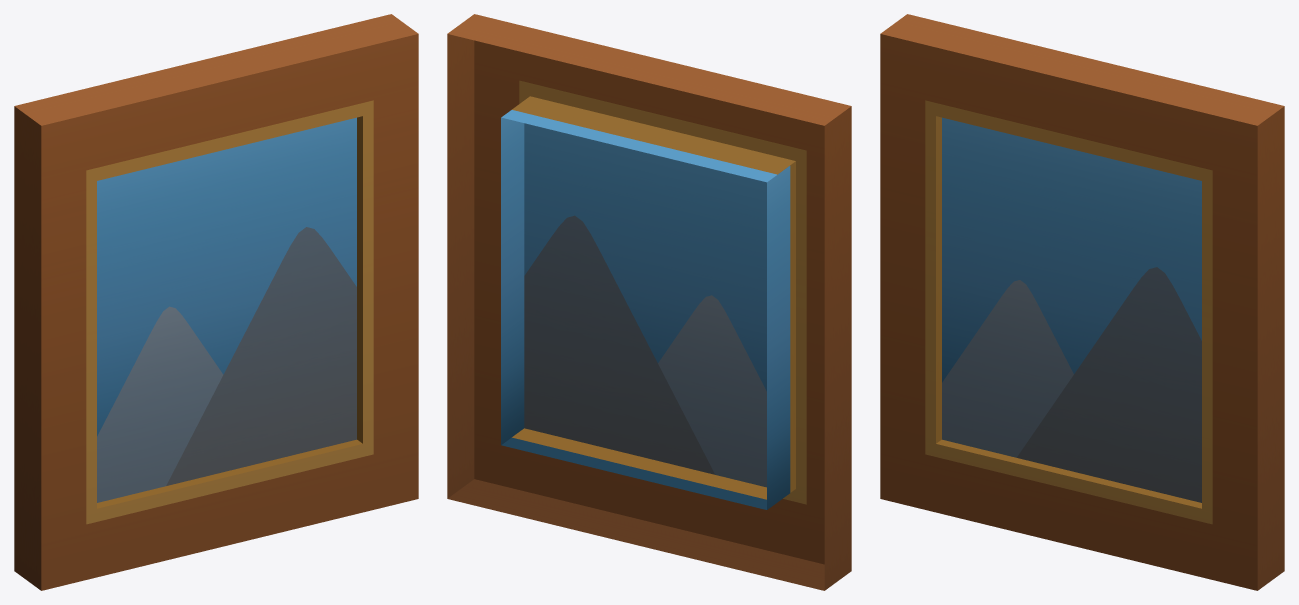
File: PaintingC.FBX
3 renders of one model, left to right at view 1: azimuth 30°, elevation 25°; view 2: azimuth 150°, elevation 25°; view 3: azimuth 330°, elevation 25°, orthographic.
Parts seen in each view (by area): view 1: Painting03; view 2: Painting03; view 3: Painting03.
Boxes of the visible parts, box(x1,y1,x2,y2) form: Painting03: box(14, 14, 418, 590); Painting03: box(447, 14, 851, 590); Painting03: box(880, 14, 1284, 590).
Bounding box in the file's own units: 0.733 × 0.8635 × 0.0975.
